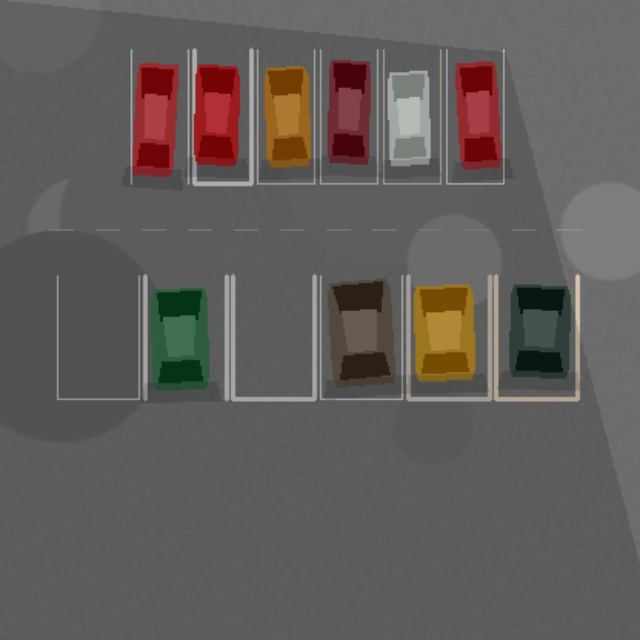space-empty: (232, 275, 314, 398), (57, 275, 138, 398)
space-occupied: (320, 275, 402, 398), (495, 275, 577, 398), (145, 275, 226, 398), (408, 275, 489, 398), (131, 49, 188, 183), (194, 49, 251, 183), (257, 49, 314, 183), (320, 49, 377, 183), (383, 49, 440, 183), (446, 49, 503, 183)
